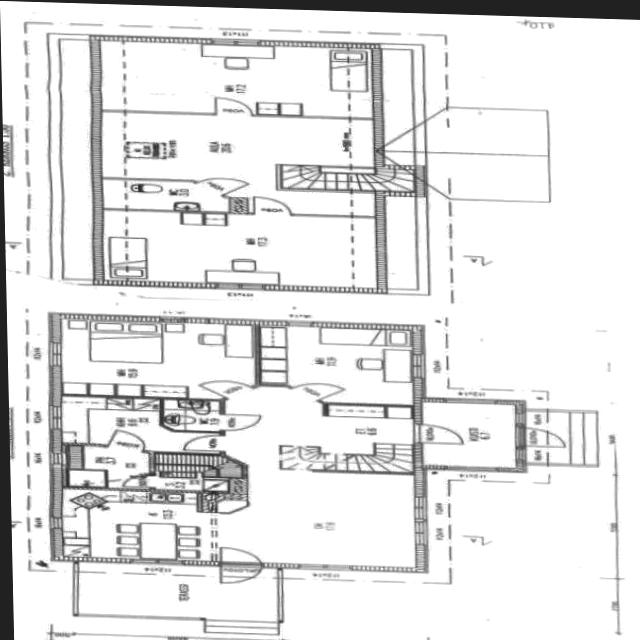room: (102, 210, 379, 287), (99, 40, 375, 117), (59, 318, 257, 400), (258, 325, 415, 404), (61, 396, 222, 453), (102, 178, 230, 211), (66, 444, 151, 488), (163, 399, 221, 431)
